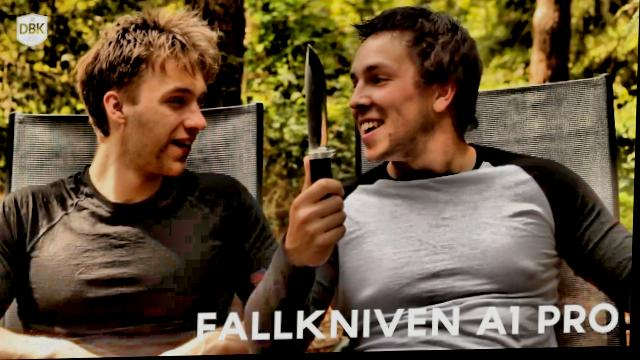knife: (292, 34, 354, 238)
